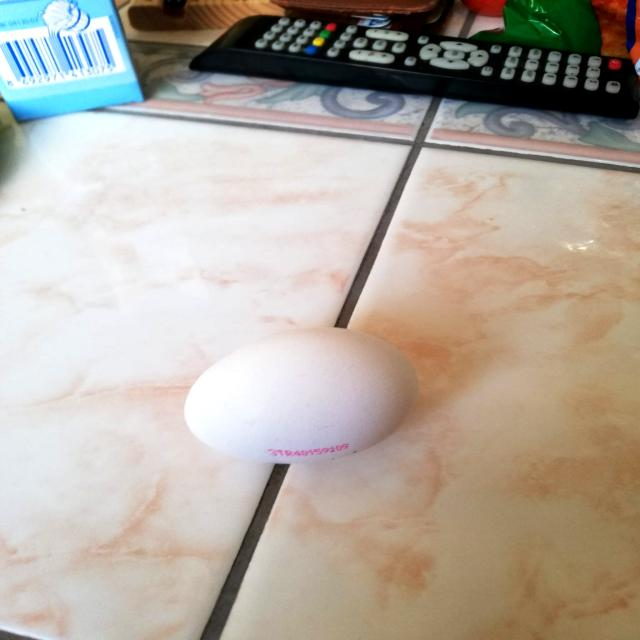egg: (172, 323, 432, 470)
